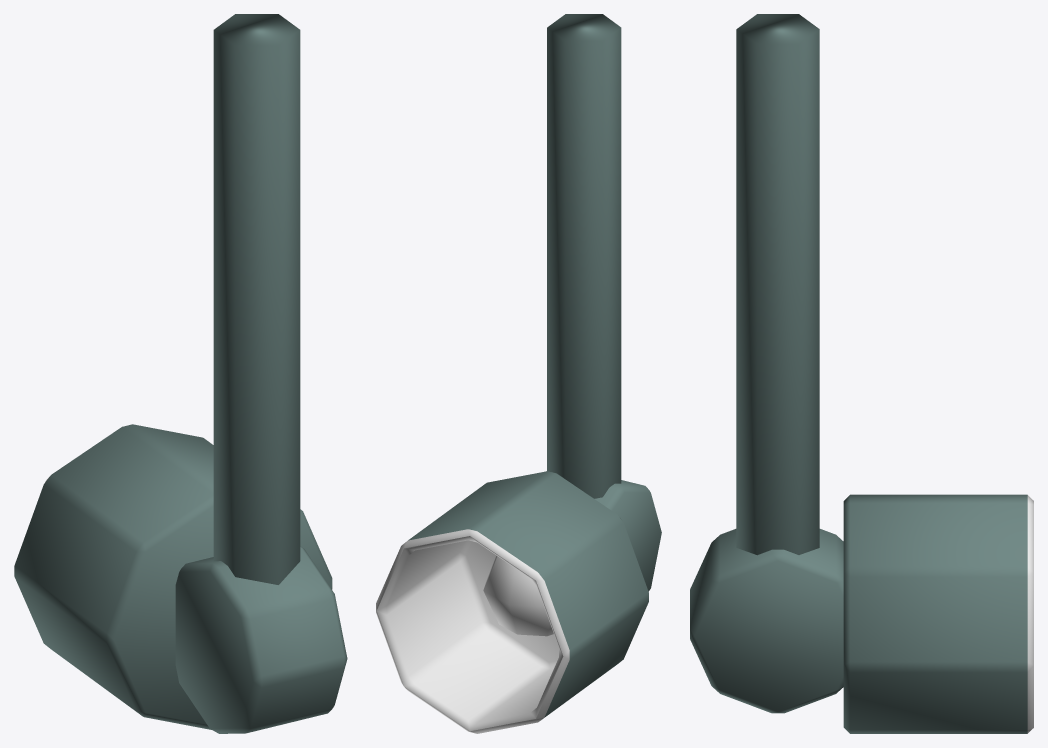
Rendered from spot_light.glb.
The picture shows the model from 3 angles, left to right: view 1: azimuth 30°, elevation 25°; view 2: azimuth 150°, elevation 25°; view 3: azimuth 270°, elevation 25°; orthographic projection. The views are drawn at different scales.
Visible parts, largest first — view 1: Cylinder.002, Cylinder.001, Cylinder; view 2: Cylinder.001, Cylinder.002, Sphere, Cylinder; view 3: Cylinder.001, Cylinder.002, Cylinder.
Boxes of the visible parts, box(x1,y1,x2,y2) form: Cylinder.002: box(213, 14, 300, 584); Cylinder.001: box(14, 424, 332, 729); Cylinder: box(175, 546, 347, 733); Cylinder.001: box(376, 471, 648, 733); Cylinder.002: box(547, 14, 621, 498); Sphere: box(483, 555, 553, 636); Cylinder: box(595, 480, 661, 591); Cylinder.001: box(843, 494, 1033, 733); Cylinder.002: box(736, 14, 819, 555); Cylinder: box(690, 529, 843, 713).
Bounding box in the file's own units: 0.0747 × 0.23 × 0.1026.
